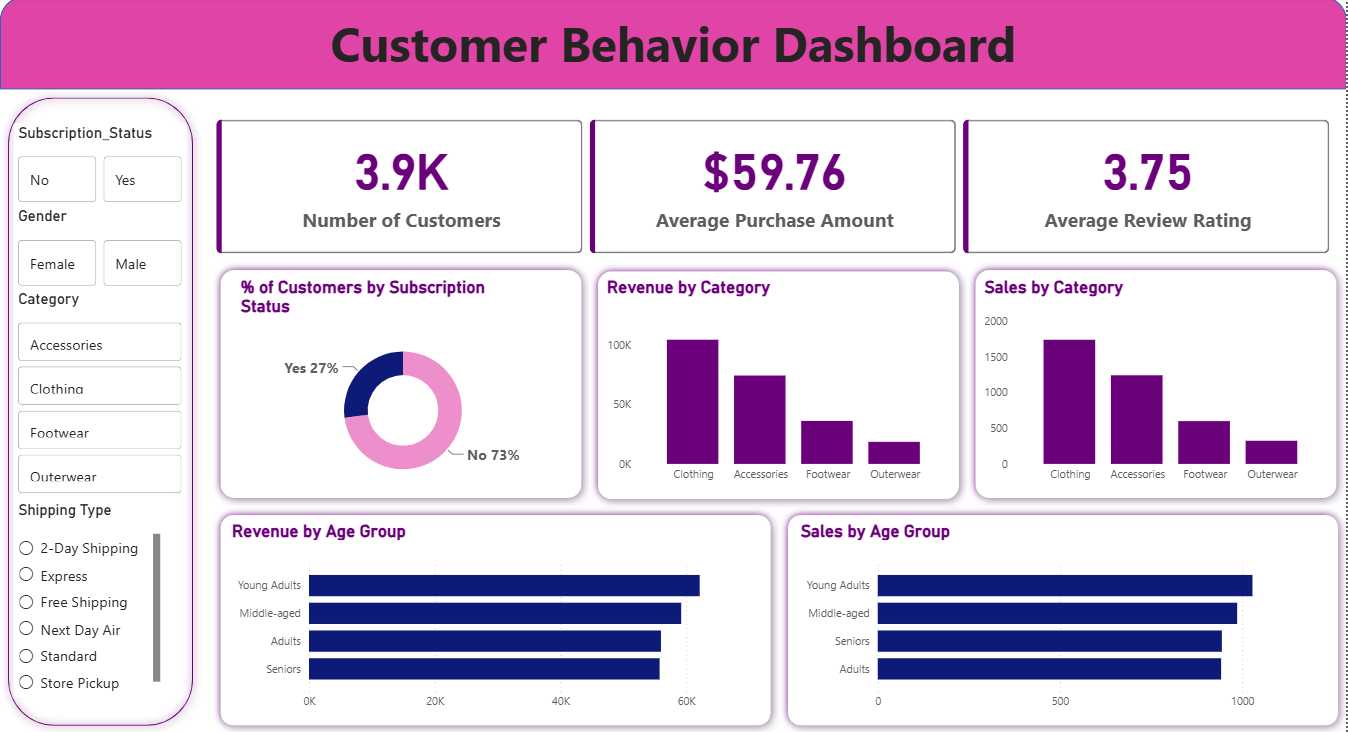

Layout of this report page (visuals, bound fields, positions):
{"tool":"powerbi","page":{"name":"Page 1","canvas":[1500,820],"ordinal":0},"visuals":[{"type":"cardVisual","fields":{"Data":["customer_behavior customer.Number of Customers","customer_behavior customer.Average Purchase Amount","customer_behavior customer.Average Review Rating"]},"box":[223.8,119.1,1276.6,183.5],"z":0},{"type":"shape","box":[0,0,1500.3,103],"z":1000},{"type":"textbox","box":[0,9.7,1500.3,93.4],"z":2000},{"type":"shape","box":[237,294.9,420.2,272.1],"z":3000},{"type":"donutChart","title":"% of Customers by Subscription Status","fields":{"Category":["customer_behavior customer.subscription_status"],"Y":["customer_behavior customer.Number of Customers"]},"box":[262.7,312.6,371.9,238.2],"z":4000},{"type":"shape","box":[657.1,296.5,420.2,272.1],"z":5000},{"type":"shape","box":[1077.3,294.9,420.2,272.1],"z":6000},{"type":"clusteredColumnChart","title":"Revenue by Category","fields":{"Category":["customer_behavior customer.category"],"Y":["Sum(customer_behavior customer.purchase_amount)"]},"box":[671.6,312.6,391.2,238.2],"z":7000},{"type":"clusteredColumnChart","title":"Sales by Category","fields":{"Category":["customer_behavior customer.category"],"Y":["customer_behavior customer.Number of Customers"]},"box":[1091.8,312.6,391.2,238.2],"z":8000},{"type":"shape","box":[0,102.5,224,717.8],"z":9000},{"type":"advancedSlicerVisual","title":"Subscription_Status","fields":{"Values":["customer_behavior customer.subscription_status"]},"box":[15.8,140.4,192.5,93.1],"z":10000},{"type":"advancedSlicerVisual","title":"Gender","fields":{"Values":["customer_behavior customer.gender"]},"box":[15.8,233.5,192.5,93.1],"z":11000},{"type":"advancedSlicerVisual","title":"Category","fields":{"Values":["customer_behavior customer.category"]},"box":[15.8,326.6,192.5,235.1],"z":12000},{"type":"listSlicer","fields":{"Values":["customer_behavior customer.shipping_type"]},"box":[15.8,561.6,168.8,219.3],"z":13000},{"type":"shape","box":[236.6,567.9,631,252.4],"z":14000},{"type":"clusteredBarChart","title":"Revenue by Age Group","fields":{"Category":["customer_behavior customer.age_group"],"Y":["Sum(customer_behavior customer.purchase_amount)"]},"box":[254,583.7,596.3,219.3],"z":15000},{"type":"shape","box":[869.3,567.9,631,252.4],"z":15001},{"type":"clusteredBarChart","title":"Sales by Age Group","fields":{"Category":["customer_behavior customer.age_group"],"Y":["customer_behavior customer.Number of Customers"]},"box":[887.1,583.5,596.3,219.3],"z":15002}]}

Visuals, with their boxes in screenshot pixels (x1, y1, x2, y2), scaled from the page's 1500x820 canvas onto the 1348x732 screenshot:
cardVisual - customer_behavior customer.Number of Customers x customer_behavior customer.Average Purchase Amount: box=[201, 106, 1347, 270]
shape: box=[0, 0, 1347, 92]
textbox: box=[0, 9, 1347, 92]
shape: box=[213, 263, 591, 506]
"% of Customers by Subscription Status" donutChart: box=[236, 279, 570, 492]
shape: box=[591, 265, 968, 508]
shape: box=[968, 263, 1346, 506]
"Revenue by Category" clusteredColumnChart: box=[604, 279, 955, 492]
"Sales by Category" clusteredColumnChart: box=[981, 279, 1333, 492]
shape: box=[0, 92, 201, 731]
"Subscription_Status" advancedSlicerVisual: box=[14, 125, 187, 208]
"Gender" advancedSlicerVisual: box=[14, 208, 187, 292]
"Category" advancedSlicerVisual: box=[14, 292, 187, 501]
listSlicer - customer_behavior customer.shipping_type: box=[14, 501, 166, 697]
shape: box=[213, 507, 780, 731]
"Revenue by Age Group" clusteredBarChart: box=[228, 521, 764, 717]
shape: box=[781, 507, 1347, 731]
"Sales by Age Group" clusteredBarChart: box=[797, 521, 1333, 717]
